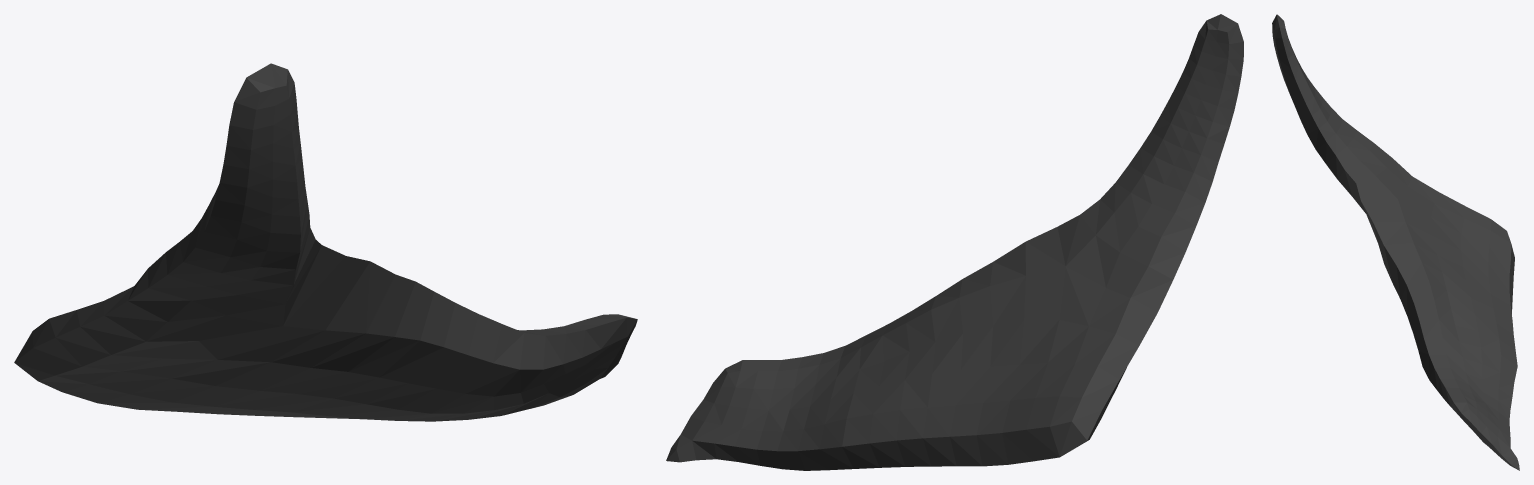
The model's file is Pectoralis_superficialis_1.glb.
The picture shows the model from 3 angles, left to right: view 1: azimuth 30°, elevation 25°; view 2: azimuth 150°, elevation 25°; view 3: azimuth 270°, elevation 25°; orthographic projection. The views are drawn at different scales.
Visible parts, largest first — view 1: Pectoralis_superficialis_1; view 2: Pectoralis_superficialis_1; view 3: Pectoralis_superficialis_1.
Boxes of the visible parts, x1,y1,x2,y2 form: Pectoralis_superficialis_1: (14, 63, 637, 421); Pectoralis_superficialis_1: (666, 14, 1243, 470); Pectoralis_superficialis_1: (1272, 14, 1519, 470).
Bounding box in the file's own units: 0.388 × 0.3754 × 0.2691.
Materials: 1 (1 with a texture image).
